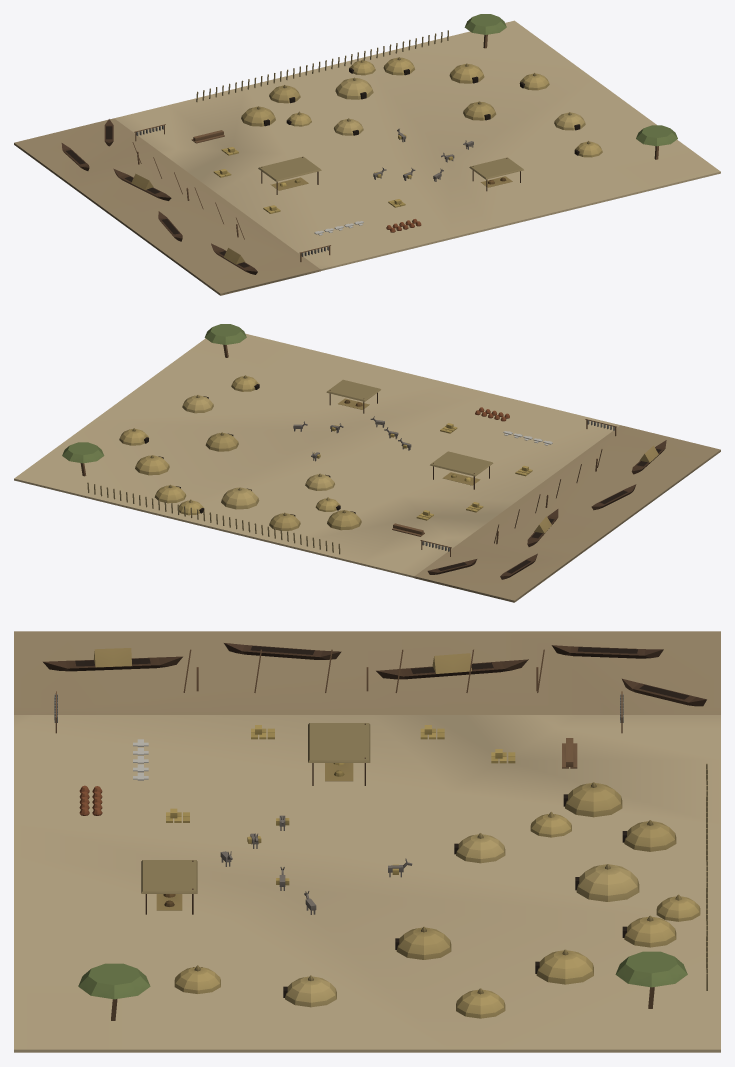
File: kabara-landing.glb
The picture shows the model from 3 angles, top to bottom: view 1: azimuth 30°, elevation 25°; view 2: azimuth 150°, elevation 25°; view 3: azimuth 270°, elevation 25°; orthographic projection. The views are drawn at different scales.
Visible parts, largest first — view 1: p0_ground, p2_huts, p3_loads, p1_boats; view 2: p0_ground, p2_huts, p3_loads, p1_boats; view 3: p0_ground, p2_huts, p1_boats, p3_loads.
Part boxes in pixels (x1=…): p0_ground: x1=14, y1=20, x2=720, y2=295; p2_huts: x1=196, y1=30, x2=602, y2=194; p3_loads: x1=191, y1=14, x2=677, y2=235; p1_boats: x1=61, y1=119, x2=330, y2=274; p0_ground: x1=14, y1=333, x2=720, y2=602; p2_huts: x1=87, y1=375, x2=493, y2=554; p3_loads: x1=62, y1=324, x2=552, y2=536; p1_boats: x1=420, y1=419, x2=666, y2=579; p0_ground: x1=14, y1=631, x2=720, y2=1052; p2_huts: x1=141, y1=723, x2=707, y2=1018; p1_boats: x1=43, y1=643, x2=706, y2=733; p3_loads: x1=78, y1=725, x2=687, y2=1020.
Size of the model in its own units: 70 by 3.91 by 50.
